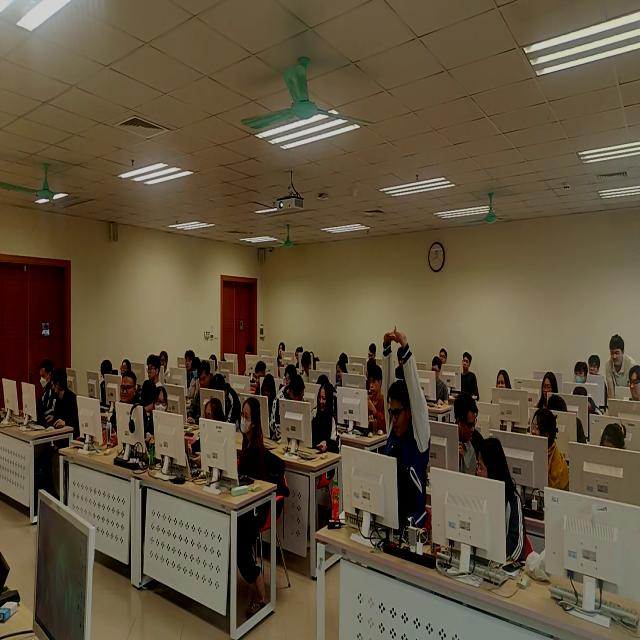raise_hand: (382, 325, 433, 533)
raise_head: (103, 373, 153, 450), (238, 397, 267, 486), (587, 354, 609, 412), (461, 350, 483, 400), (623, 358, 640, 403), (183, 349, 197, 390), (147, 351, 162, 388), (572, 359, 591, 385), (496, 366, 513, 391), (160, 350, 171, 387), (119, 358, 134, 374), (279, 340, 287, 367), (440, 344, 449, 365)
stand: (604, 333, 636, 398)
using_computer: (547, 395, 591, 447), (189, 360, 213, 425), (430, 355, 451, 409), (570, 385, 604, 418), (534, 370, 561, 410), (601, 419, 631, 455), (260, 371, 278, 419), (100, 360, 117, 406), (187, 358, 202, 400), (254, 362, 268, 396), (242, 344, 256, 377), (300, 351, 314, 383), (284, 364, 298, 387), (396, 347, 405, 381), (295, 342, 305, 370), (369, 338, 379, 364), (210, 353, 219, 376), (312, 351, 320, 373), (317, 374, 329, 386), (340, 349, 349, 364), (221, 356, 228, 369)
using_phone: (189, 396, 229, 476), (367, 363, 387, 438)
